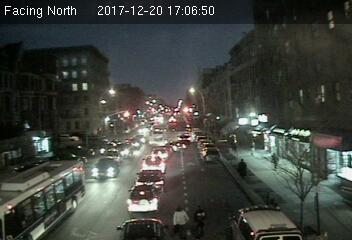car: (124, 185, 162, 212), (92, 157, 121, 179), (135, 168, 166, 188), (142, 156, 166, 174), (149, 146, 170, 159), (202, 146, 220, 161), (171, 139, 188, 151)
police: (232, 205, 307, 240)
